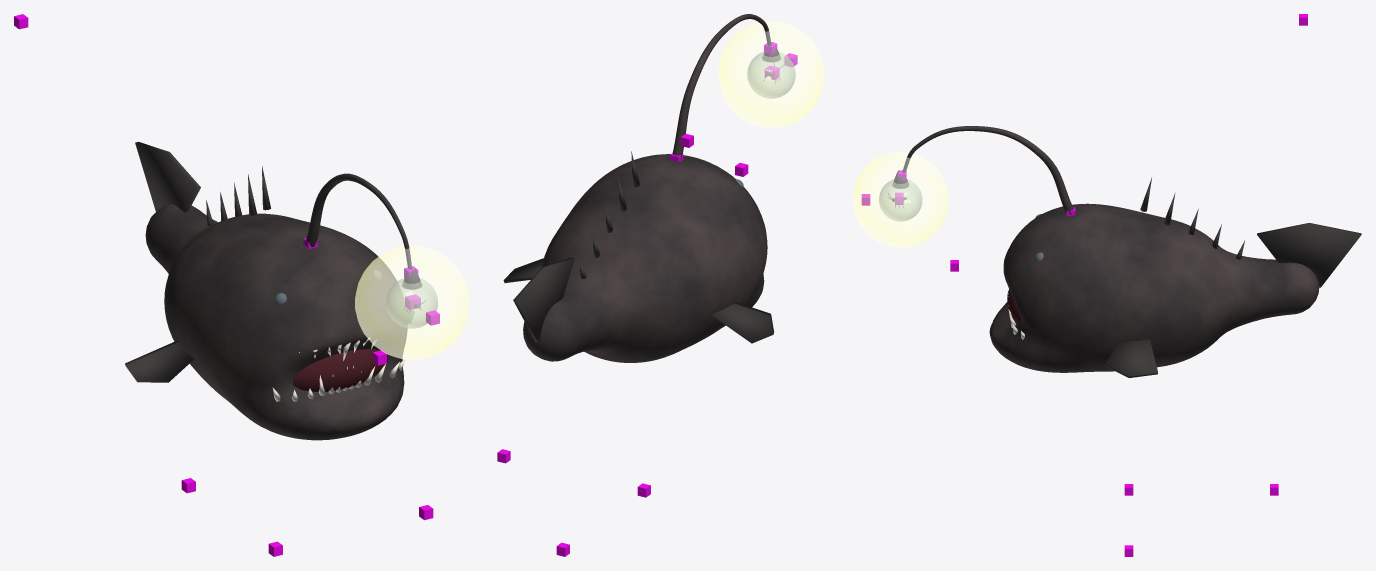
The model's file is 07_rana_pescatrice_abisso.glb.
3 renders of one model, left to right at view 1: azimuth 30°, elevation 25°; view 2: azimuth 150°, elevation 25°; view 3: azimuth 270°, elevation 25°, orthographic. The views are drawn at different scales.
Parts seen in each view (by area): view 1: Pescatrice__Pelle_Abissale__Galleggiamento, Pescatrice__Alone_Esca__Esca, Pescatrice__Pinne__Galleggiamento, Pescatrice__Bocca__Galleggiamento, Pescatrice__Esca_Vetro_Organico__Esca, Pescatrice__Pelle_Abissale__Illicio, Pescatrice__Denti__Galleggiamento; view 2: Pescatrice__Pelle_Abissale__Galleggiamento, Pescatrice__Alone_Esca__Esca, Pescatrice__Pinne__Galleggiamento, Pescatrice__Esca_Vetro_Organico__Esca, Pescatrice__Pelle_Abissale__Illicio; view 3: Pescatrice__Pelle_Abissale__Galleggiamento, Pescatrice__Alone_Esca__Esca, Pescatrice__Pinne__Galleggiamento, Pescatrice__Pelle_Abissale__Illicio, Pescatrice__Esca_Vetro_Organico__Esca.
Boxes of the visible parts, x1,y1,x2,y2 form: Pescatrice__Pelle_Abissale__Galleggiamento: (145,204,407,440); Pescatrice__Alone_Esca__Esca: (355,245,468,359); Pescatrice__Pinne__Galleggiamento: (125,141,270,382); Pescatrice__Bocca__Galleggiamento: (293,349,387,391); Pescatrice__Esca_Vetro_Organico__Esca: (386,278,437,328); Pescatrice__Pelle_Abissale__Illicio: (305,173,411,269); Pescatrice__Denti__Galleggiamento: (272,337,405,401); Pescatrice__Pelle_Abissale__Galleggiamento: (523,154,767,362); Pescatrice__Alone_Esca__Esca: (718,21,824,127); Pescatrice__Pinne__Galleggiamento: (503,151,773,343); Pescatrice__Esca_Vetro_Organico__Esca: (747,52,795,98); Pescatrice__Pelle_Abissale__Illicio: (672,14,771,159); Pescatrice__Pelle_Abissale__Galleggiamento: (989,203,1319,372); Pescatrice__Alone_Esca__Esca: (853,152,948,247); Pescatrice__Pinne__Galleggiamento: (1105,177,1361,377); Pescatrice__Pelle_Abissale__Illicio: (902,126,1073,214); Pescatrice__Esca_Vetro_Organico__Esca: (879,179,922,221).
Bounding box in the file's own units: 3.09 × 4.74 × 5.24.
Materials: 14 (4 with a texture image).
